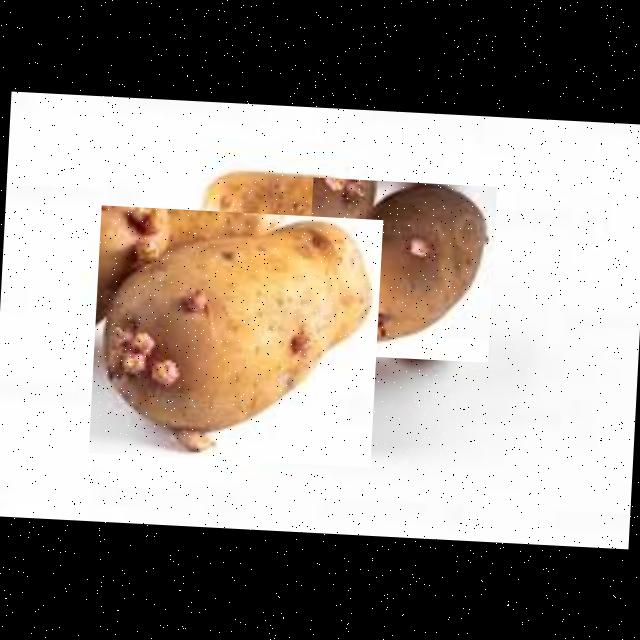Sprouted potato: (89, 205, 384, 468), (304, 178, 497, 362)
